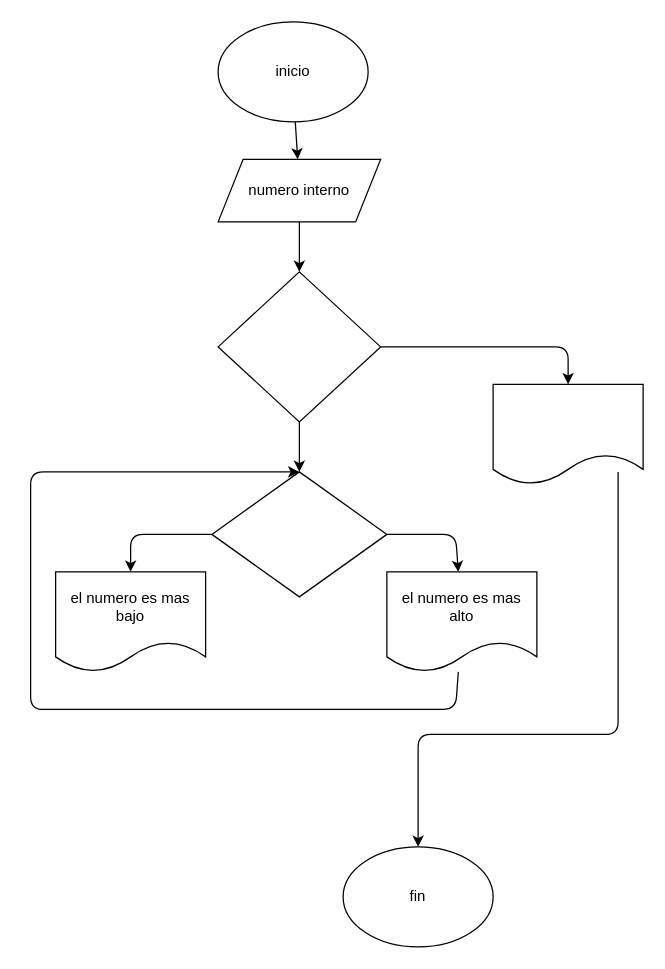
This 665x969 diagram has some shape labels left out. Here are the shapes that lost their labels. From the top down, the centre of each, then its label:
(299,346): intento !=numero
(567,433): adivinaste el numero
(299,534): intento<numero
